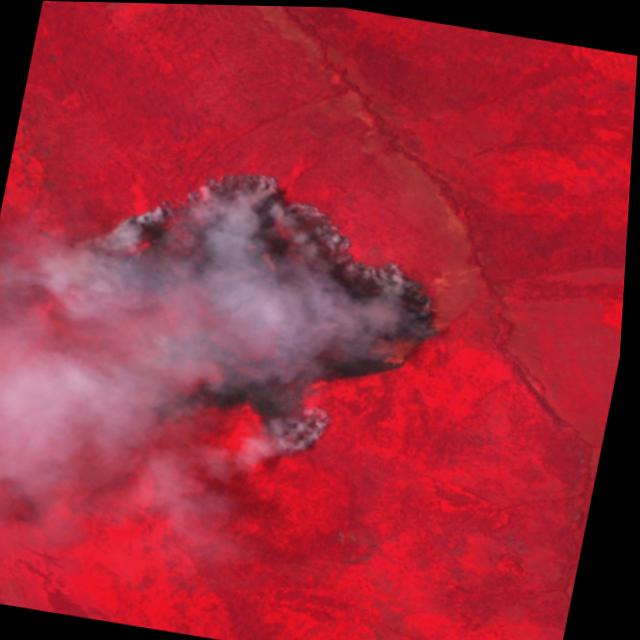fire: (67, 140, 485, 479)
